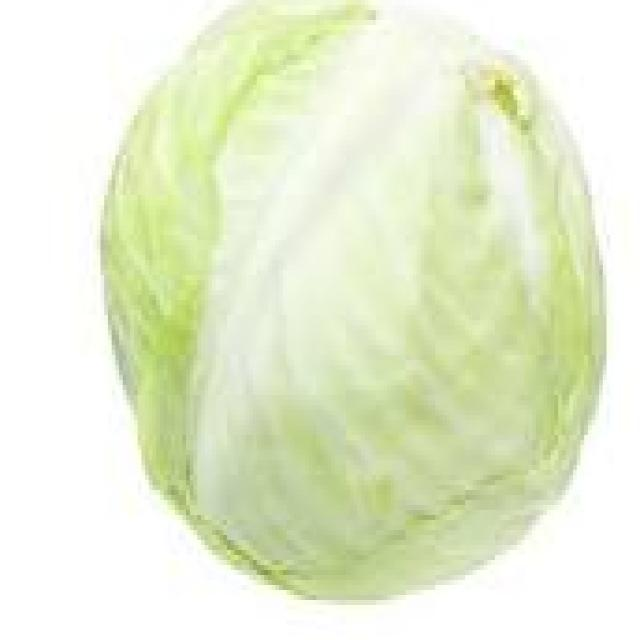cabbage: (71, 0, 610, 600)
